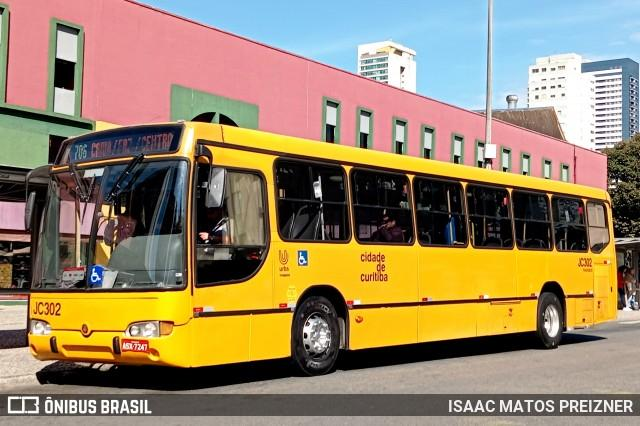CAIUA FAZ CENTRO: (88, 130, 175, 160)
